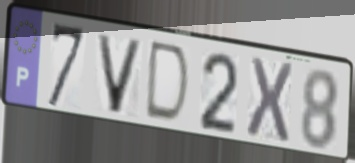2: (198, 50, 241, 137)
7: (45, 21, 88, 110)
8: (299, 66, 342, 153)
D: (142, 38, 193, 128)
V: (94, 31, 146, 118)
X: (244, 54, 295, 145)
